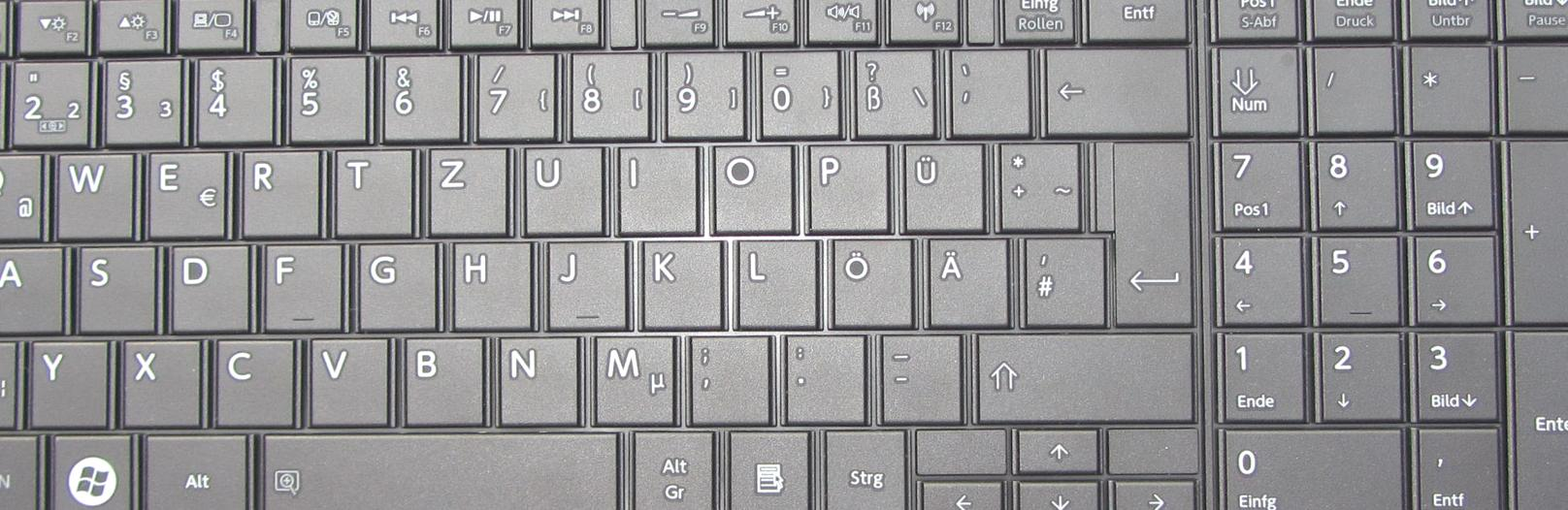0: (751, 43, 838, 136)
1: (1, 55, 43, 147)
2: (4, 54, 89, 146)
3: (95, 51, 181, 144)
4: (188, 50, 272, 142)
5: (278, 49, 365, 141)
6: (373, 47, 460, 140)
7: (468, 46, 555, 139)
8: (562, 45, 648, 139)
9: (656, 44, 743, 138)
a: (1, 239, 62, 332)
accent: (941, 41, 1029, 134)
ae: (919, 229, 1007, 326)
alt-left: (137, 425, 246, 510)
altgr-right: (625, 423, 714, 510)
b: (392, 327, 482, 424)
c: (206, 330, 293, 426)
caret: (1, 56, 40, 146)
comma: (680, 326, 767, 422)
d: (160, 235, 245, 331)
del: (1036, 40, 1186, 133)
e: (139, 143, 225, 237)
enter: (1088, 132, 1192, 324)
f: (255, 235, 341, 329)
g: (347, 233, 434, 329)
h: (441, 233, 530, 328)
hash: (1016, 229, 1101, 325)
i: (608, 139, 695, 232)
j: (539, 232, 624, 328)
k: (634, 230, 720, 327)
keyboard: (1, 1, 1568, 510)
l: (730, 230, 814, 327)
less: (1, 333, 44, 426)
m: (584, 325, 673, 423)
minus: (870, 326, 959, 420)
n: (488, 327, 576, 423)
o: (700, 136, 791, 230)
oe: (822, 229, 910, 327)
p: (797, 135, 886, 230)
plus: (988, 134, 1079, 229)
point: (777, 326, 864, 421)
q: (1, 144, 46, 239)
r: (232, 143, 319, 237)
s: (69, 238, 153, 331)
shift-left: (1, 335, 53, 427)
shift-lock: (1, 240, 68, 333)
shift-right: (964, 323, 1193, 420)
space: (256, 424, 616, 510)
ss: (845, 44, 932, 136)
strg-left: (1, 429, 66, 510)
strg-right: (817, 422, 906, 510)
t: (325, 141, 410, 234)
tab: (1, 147, 63, 239)
u: (511, 138, 602, 234)
ue: (891, 134, 983, 231)
v: (301, 328, 386, 423)
w: (47, 144, 133, 239)
x: (113, 331, 199, 425)
y: (21, 333, 106, 425)
z: (417, 139, 506, 235)
